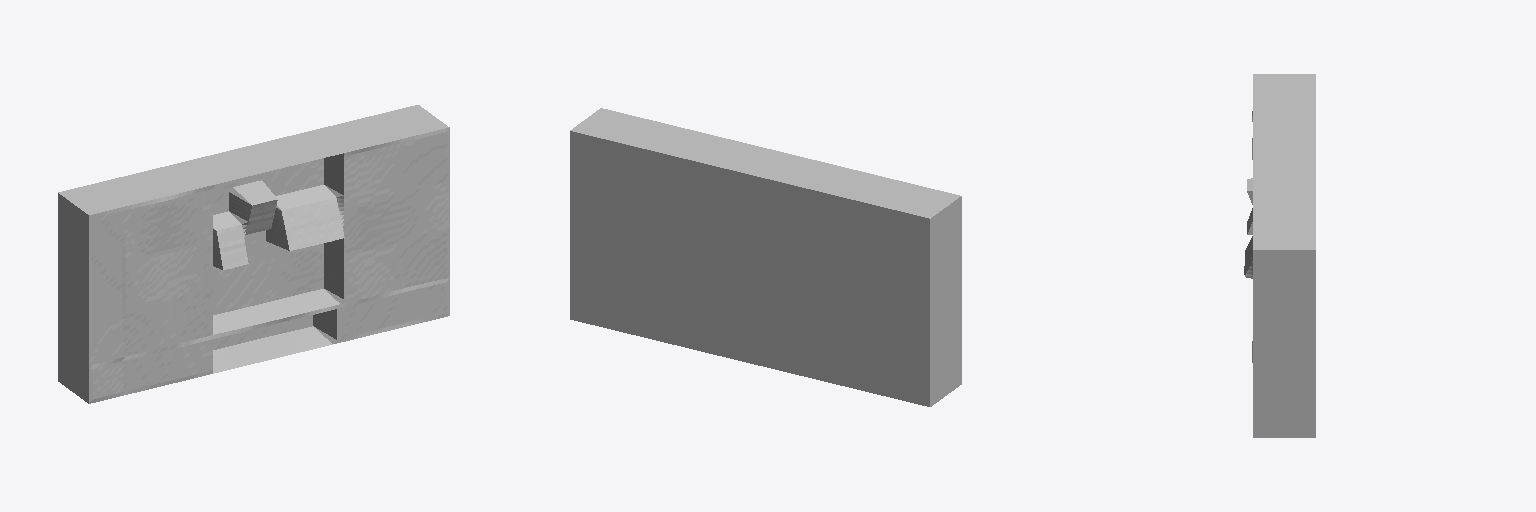
Rendered from rectangular_prism_bumps_6_1.obj.
3 views of the same model, side by side, from view 1: azimuth 30°, elevation 25°; view 2: azimuth 150°, elevation 25°; view 3: azimuth 270°, elevation 25° (orthographic).
Bounding box in the file's own units: 10 × 5 × 1.72.